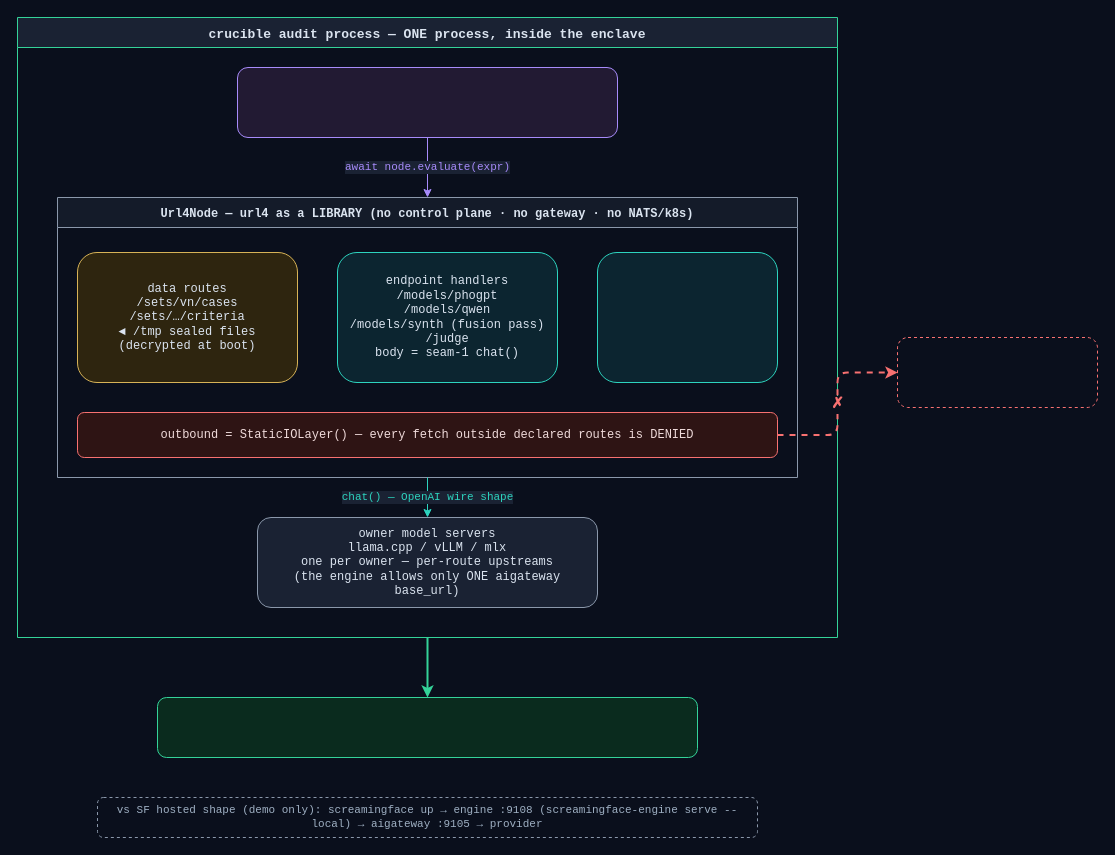
Image size: 1115x855. Some labels were removed from this diagram. Here are the shapes that lost their labels. From the top down, the centre of each, then its label:
point (427, 102): Url4Backend compile(EnsembleSpec, BenchmarkSpec) → expr
point (687, 317): /aggregate in-process fn (no argv cap)
point (997, 372): anything undeclared (no egress)
point (427, 727): candidate-result JSON → Scorecard (signed — the ONLY exit)
